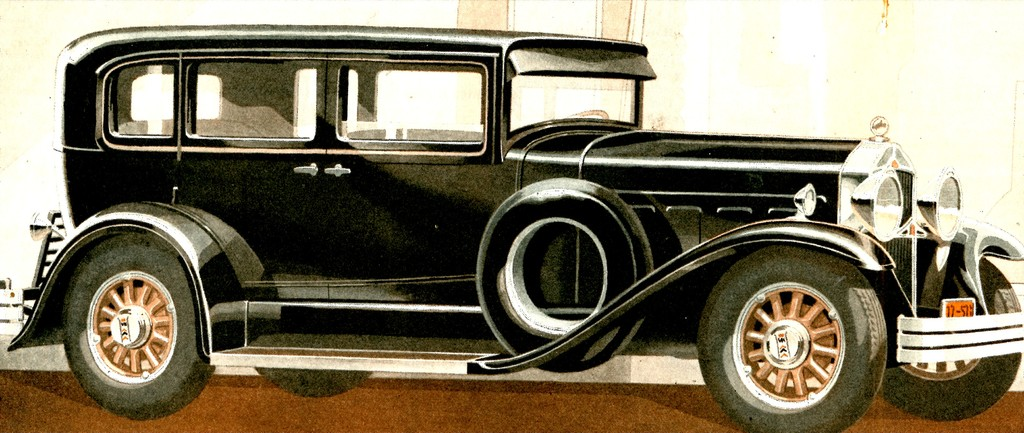Car: (7, 26, 1023, 432)
